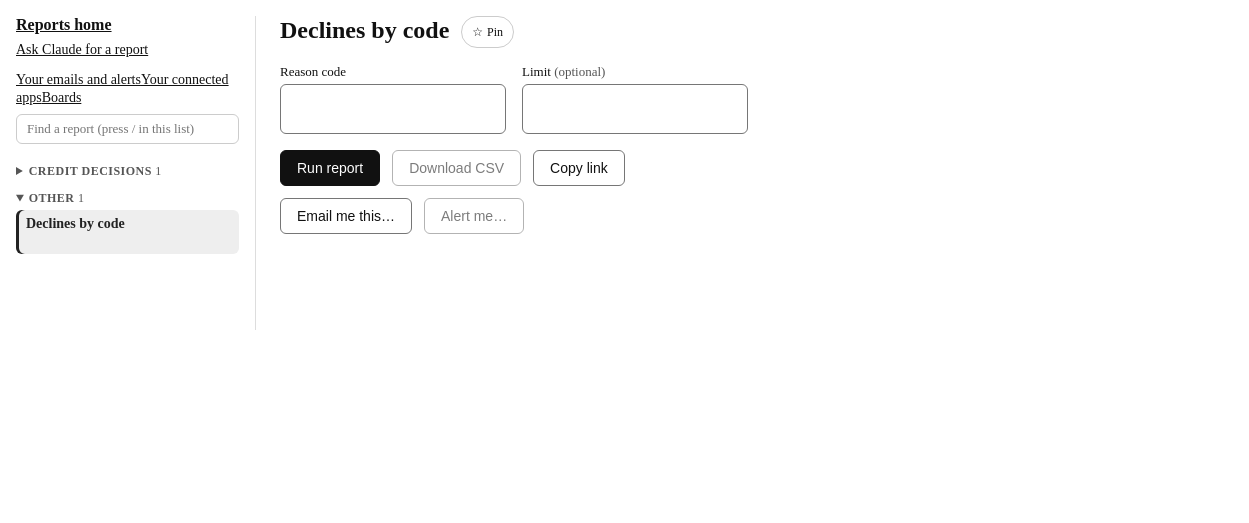
it: ReportsView › keeps focus on the run button while a run is in progress
Type "X" into the field labelled "Reason code".
click(393, 109); type("X")  # box left=280, top=84, right=506, bottom=134
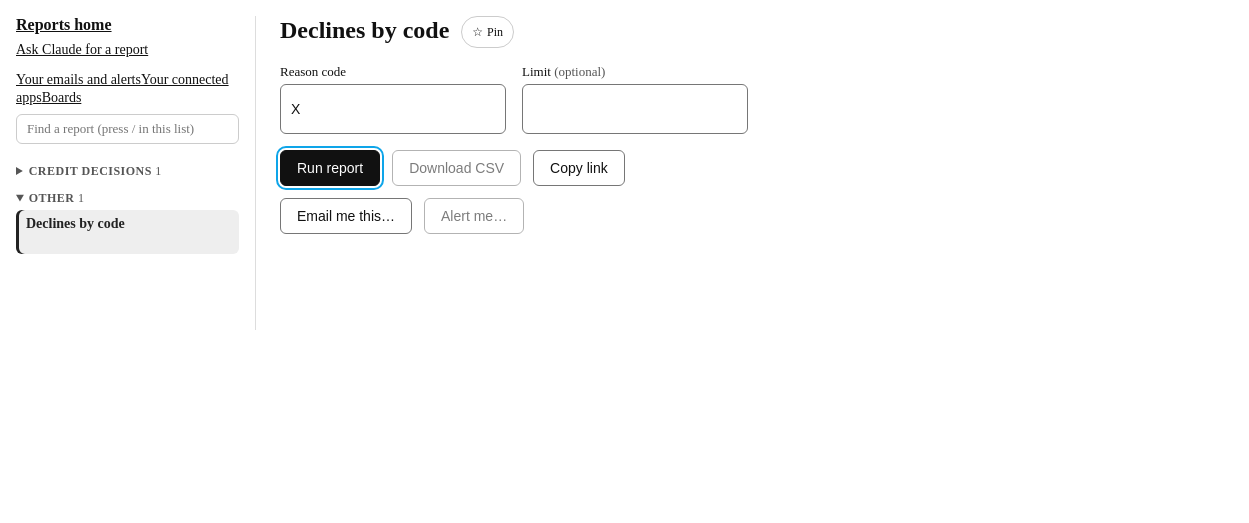
Click the button "Run report".
click(330, 168)  # box left=280, top=150, right=380, bottom=186
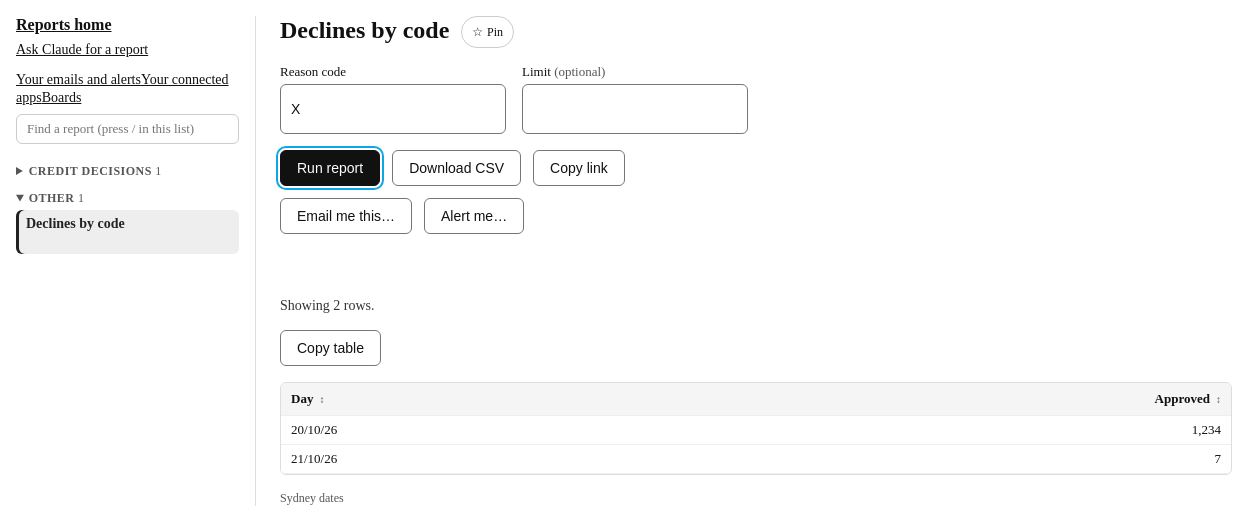
Result: the table with test id "report-table" is shown at left=281, top=383, right=1231, bottom=474
